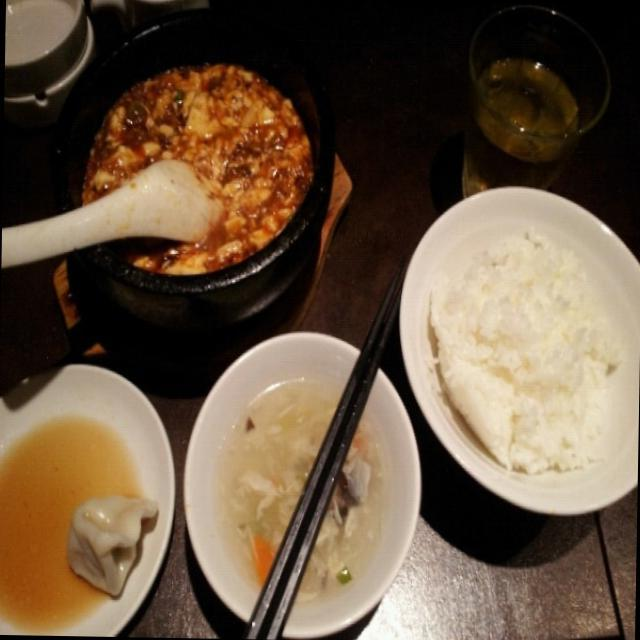Rice: (424, 206, 623, 481)
